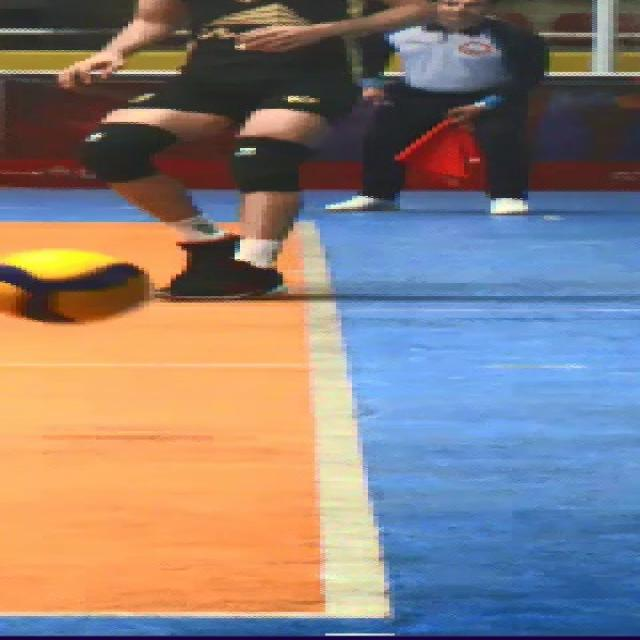Volleyball: (0, 249, 150, 324)
